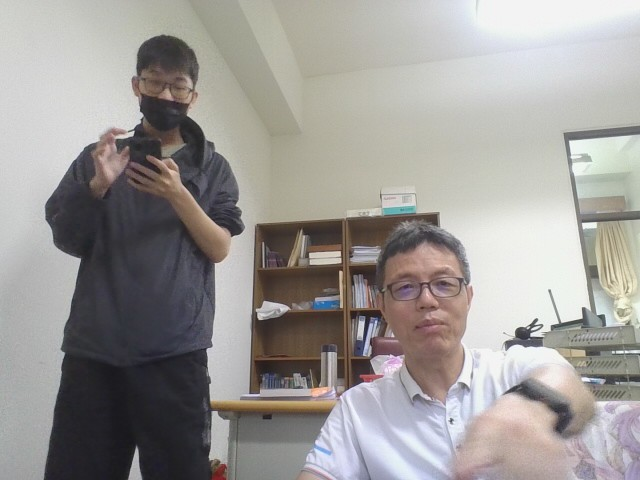No_Gloves: (84, 125, 131, 197), (124, 150, 185, 204)
No_Helmet: (372, 216, 477, 389), (127, 31, 202, 127)
person: (21, 19, 252, 480), (261, 197, 625, 480)
